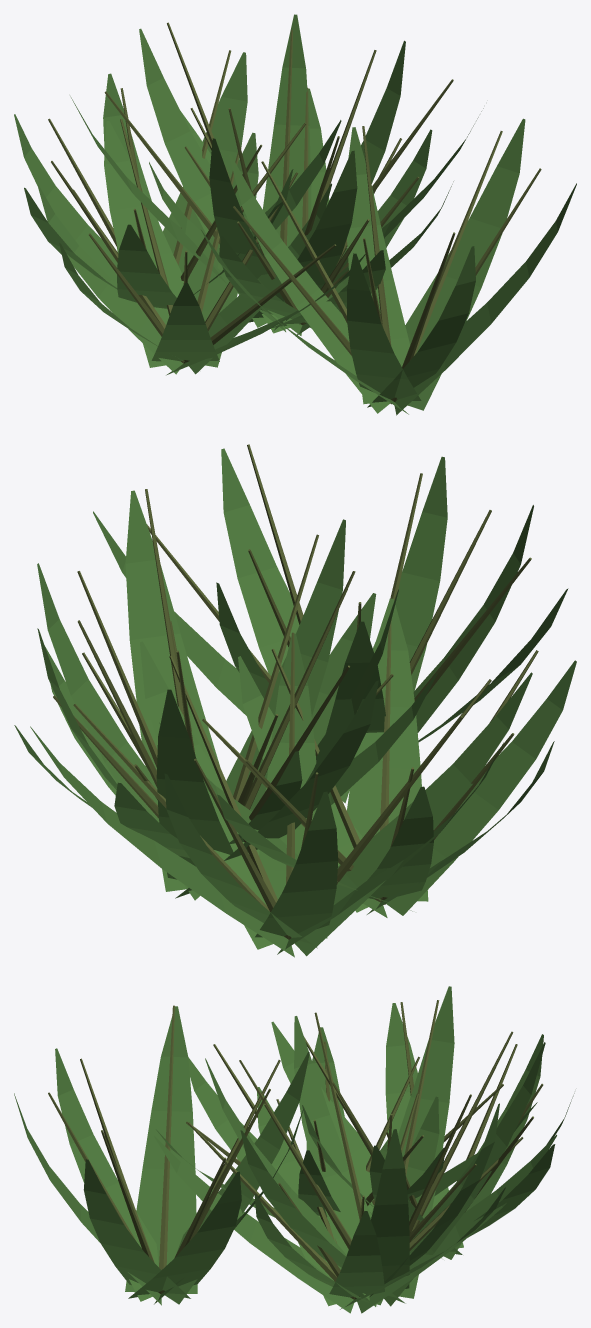
The model's file is bracken_patch_v1.glb.
3 views of the same model, one above another, from view 1: azimuth 30°, elevation 25°; view 2: azimuth 150°, elevation 25°; view 3: azimuth 270°, elevation 25° (orthographic). The views are drawn at different scales.
Parts seen in each view (by area): view 1: BrackenLeaves, BrackenStems; view 2: BrackenLeaves, BrackenStems; view 3: BrackenLeaves, BrackenStems.
Part boxes in pixels (x1=…): BrackenLeaves: x1=14, y1=14, x2=576, y2=415; BrackenStems: x1=48, y1=22, x2=541, y2=404; BrackenLeaves: x1=14, y1=448, x2=576, y2=957; BrackenStems: x1=53, y1=444, x2=538, y2=939; BrackenLeaves: x1=14, y1=986, x2=574, y2=1313; BrackenStems: x1=48, y1=1000, x2=543, y2=1299.
Bounding box in the file's own units: 1.24 × 0.7197 × 1.5.
